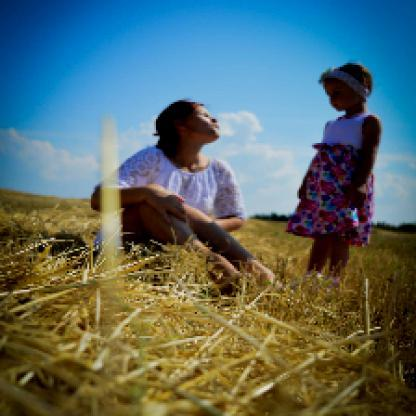child: (283, 63, 384, 295)
